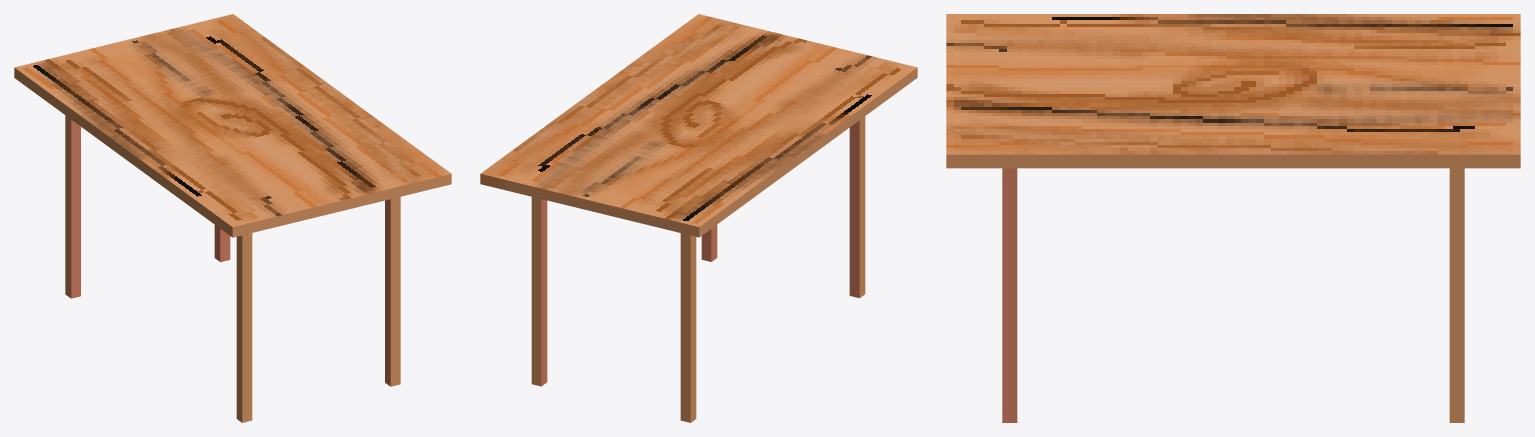
Rendered from table.gltf.
3 views of the same model, side by side, from view 1: azimuth 30°, elevation 25°; view 2: azimuth 150°, elevation 25°; view 3: azimuth 270°, elevation 25° (orthographic). The views are drawn at different scales.
Parts seen in each view (by area): view 1: cuboid (×5); view 2: cuboid (×5); view 3: cuboid (×3).
Boxes of the visible parts, left/top/right/bottom form: cuboid (×5): left=14, top=14, right=451, bottom=422; cuboid (×5): left=480, top=14, right=917, bottom=422; cuboid (×3): left=946, top=14, right=1520, bottom=422.
Size of the model in its own units: 1.38 by 1.31 by 2.38.
Materials: 1 (1 with a texture image).
